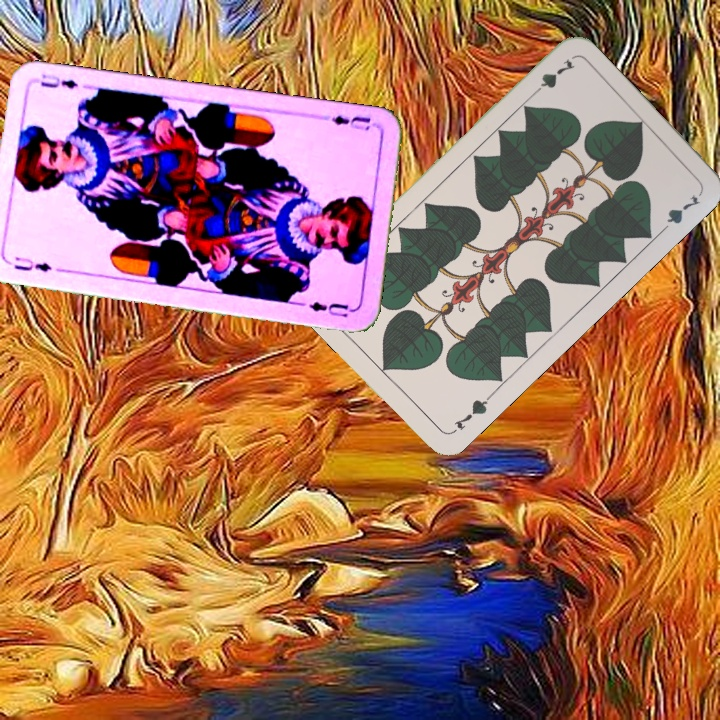EU: (320, 111, 379, 134), (10, 252, 54, 274)
G7: (526, 54, 578, 100), (447, 391, 495, 437)
